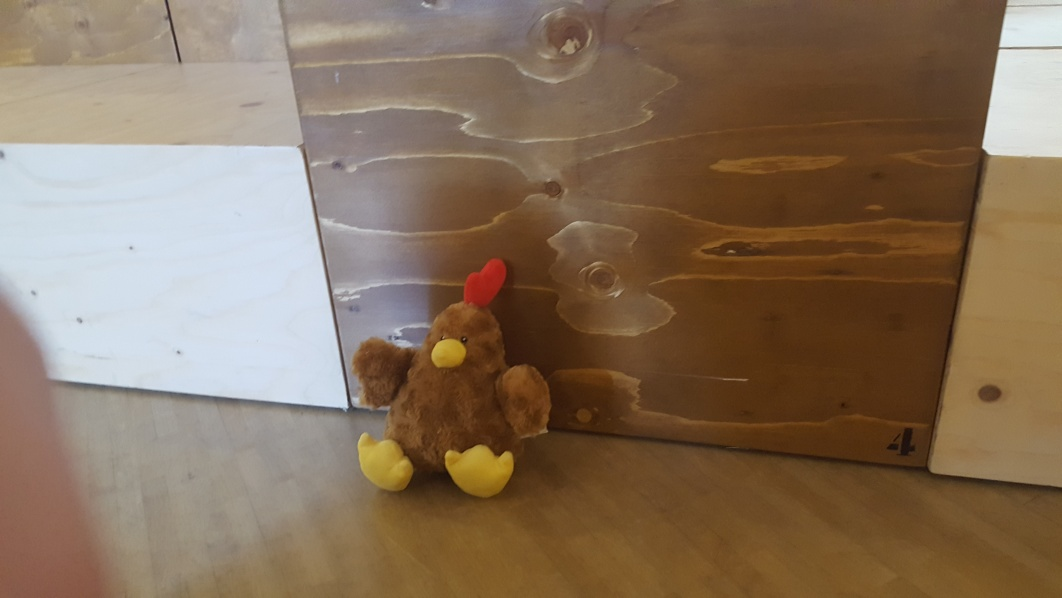chicken: (350, 259, 553, 497)
